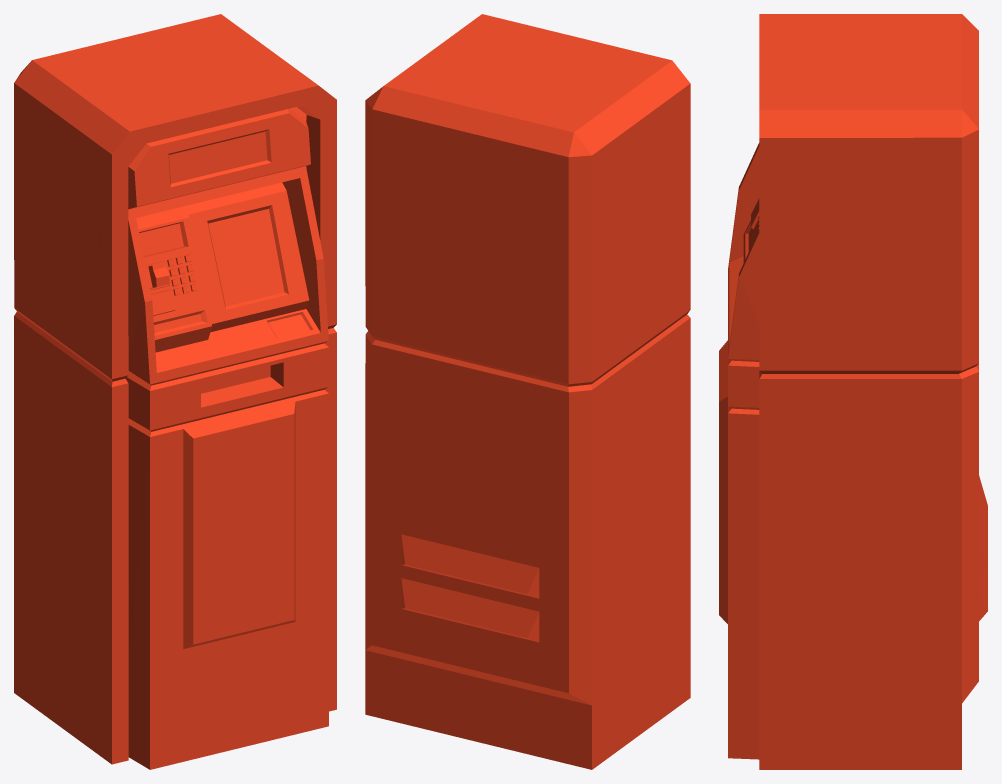
File: SM_ATM_City.fbx
3 renders of one model, left to right at view 1: azimuth 30°, elevation 25°; view 2: azimuth 150°, elevation 25°; view 3: azimuth 270°, elevation 25°, orthographic. The views are drawn at different scales.
Parts seen in each view (by area): view 1: SM_ATM_City; view 2: SM_ATM_City; view 3: SM_ATM_City.
Boxes of the visible parts, left/top/right/bottom form: SM_ATM_City: left=14, top=14, right=336, bottom=769; SM_ATM_City: left=365, top=14, right=690, bottom=769; SM_ATM_City: left=719, top=14, right=987, bottom=769.
Size of the model in its own units: 0.7361 by 1.96 by 0.7346.
